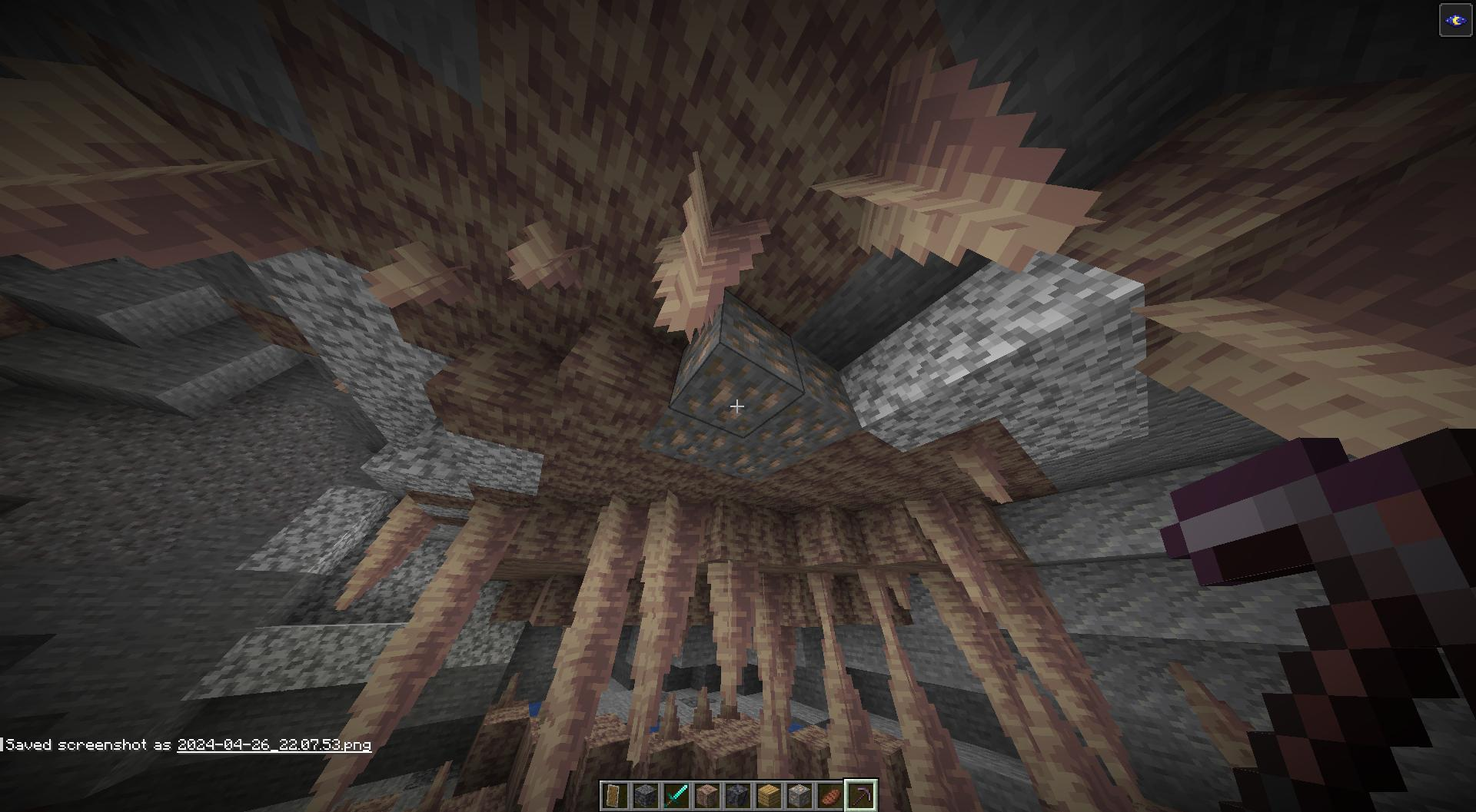iron ore: (661, 309, 837, 493)
